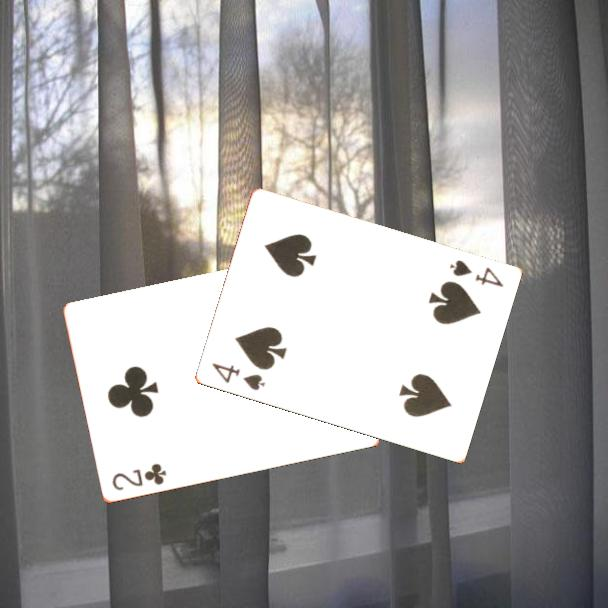c02: (108, 460, 169, 494)
s04: (208, 359, 268, 394), (446, 257, 506, 290)
